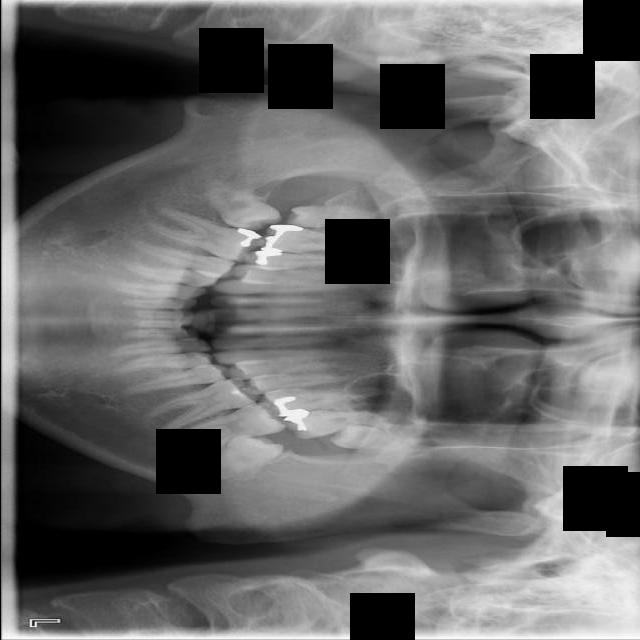52: (205, 217, 264, 271), (202, 374, 258, 413), (255, 384, 313, 421), (253, 220, 306, 257), (281, 407, 334, 444), (242, 249, 293, 272), (206, 321, 262, 338), (208, 292, 259, 309)
73: (253, 320, 348, 336), (256, 294, 325, 306), (46, 605, 60, 613)
BioHorizons Implant: (282, 399, 402, 443)
BioLife Implant: (330, 423, 417, 454)
Biomet 3i Implant: (206, 416, 289, 500)
Blue Sky Bio Implant: (166, 397, 288, 455)
Caries: (285, 204, 383, 229)
Implant: (200, 182, 287, 238)
